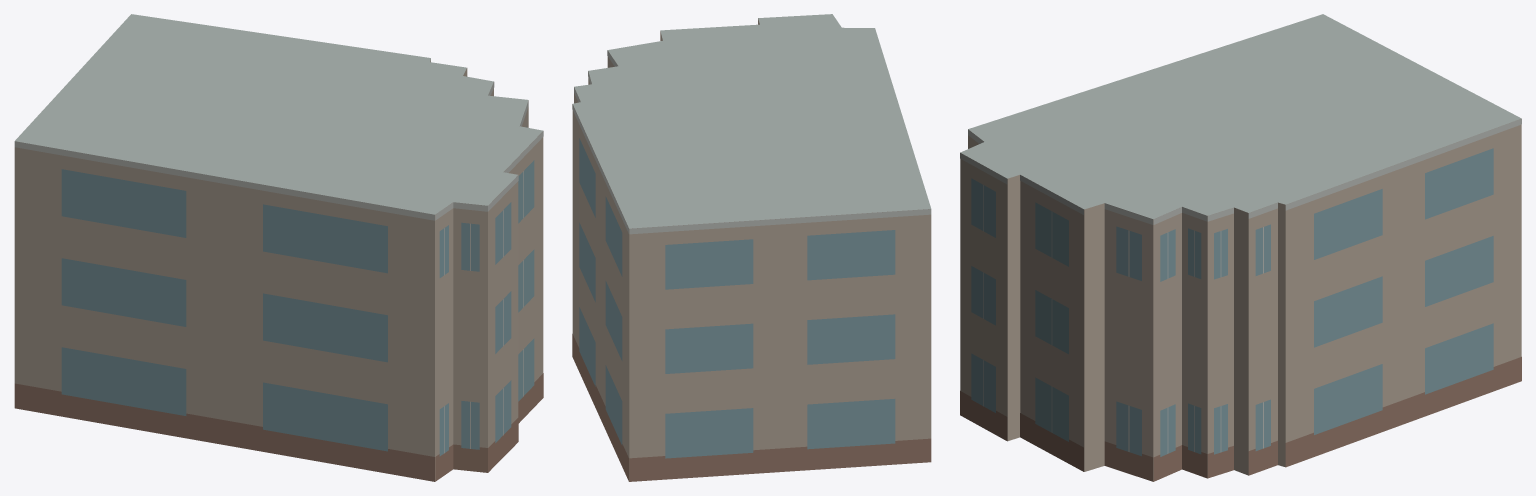
File: survey-upis-32630516.glb
3 renders of one model, left to right at view 1: azimuth 30°, elevation 25°; view 2: azimuth 150°, elevation 25°; view 3: azimuth 270°, elevation 25°, orthographic. The views are drawn at different scales.
Parts seen in each view (by area): view 1: survey-upis-32630516.tmp; view 2: survey-upis-32630516.tmp; view 3: survey-upis-32630516.tmp.
Boxes of the visible parts, x1,y1,x2,y2 form: survey-upis-32630516.tmp: (14, 14, 543, 481); survey-upis-32630516.tmp: (572, 14, 931, 481); survey-upis-32630516.tmp: (960, 14, 1521, 481).
Size of the model in its own units: 18.03 by 10.75 by 20.84.
